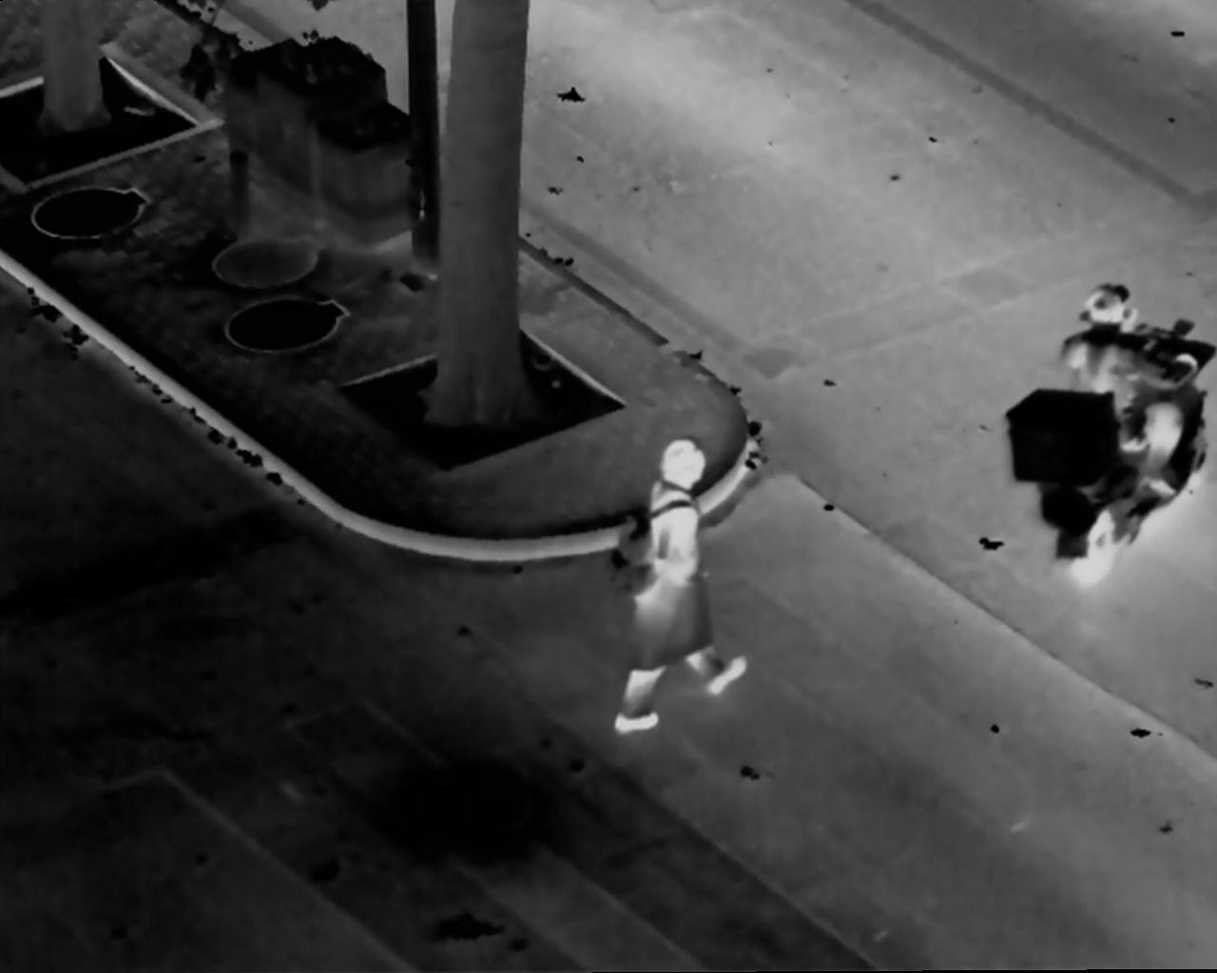person: (610, 437, 749, 731), (1062, 283, 1208, 503)
